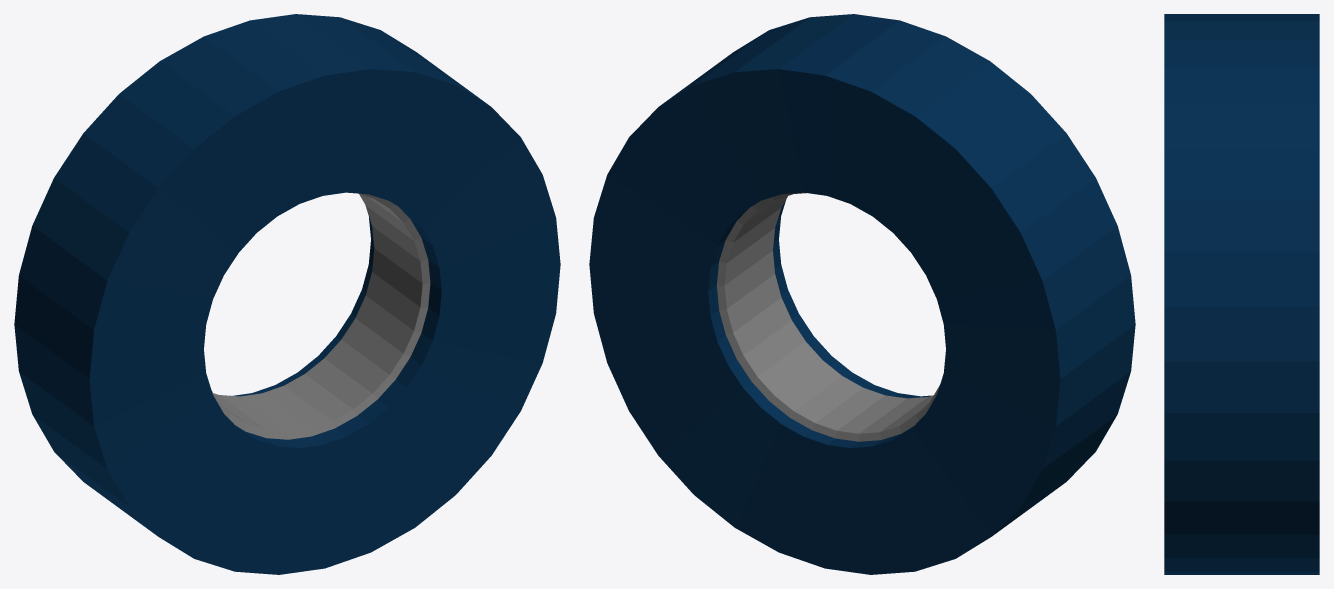
Rendered from Izolenta.fbx.
3 views of the same model, side by side, from view 1: azimuth 30°, elevation 25°; view 2: azimuth 150°, elevation 25°; view 3: azimuth 270°, elevation 25° (orthographic). The views are drawn at different scales.
Visible parts, largest first — view 1: izolenta; view 2: izolenta; view 3: izolenta.
Part boxes in pixels (x1,y1,x2,y2): izolenta: [14, 14, 560, 574]; izolenta: [589, 14, 1135, 574]; izolenta: [1164, 14, 1319, 574].
Size of the model in its own units: 200 by 200 by 55.31.
